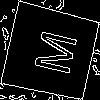M: (25, 26, 78, 77)
